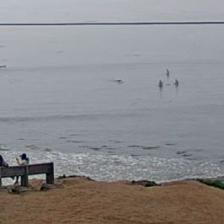surfer: (174, 78, 180, 86), (158, 80, 163, 88), (166, 68, 170, 77), (115, 79, 123, 83), (1, 64, 6, 68)
